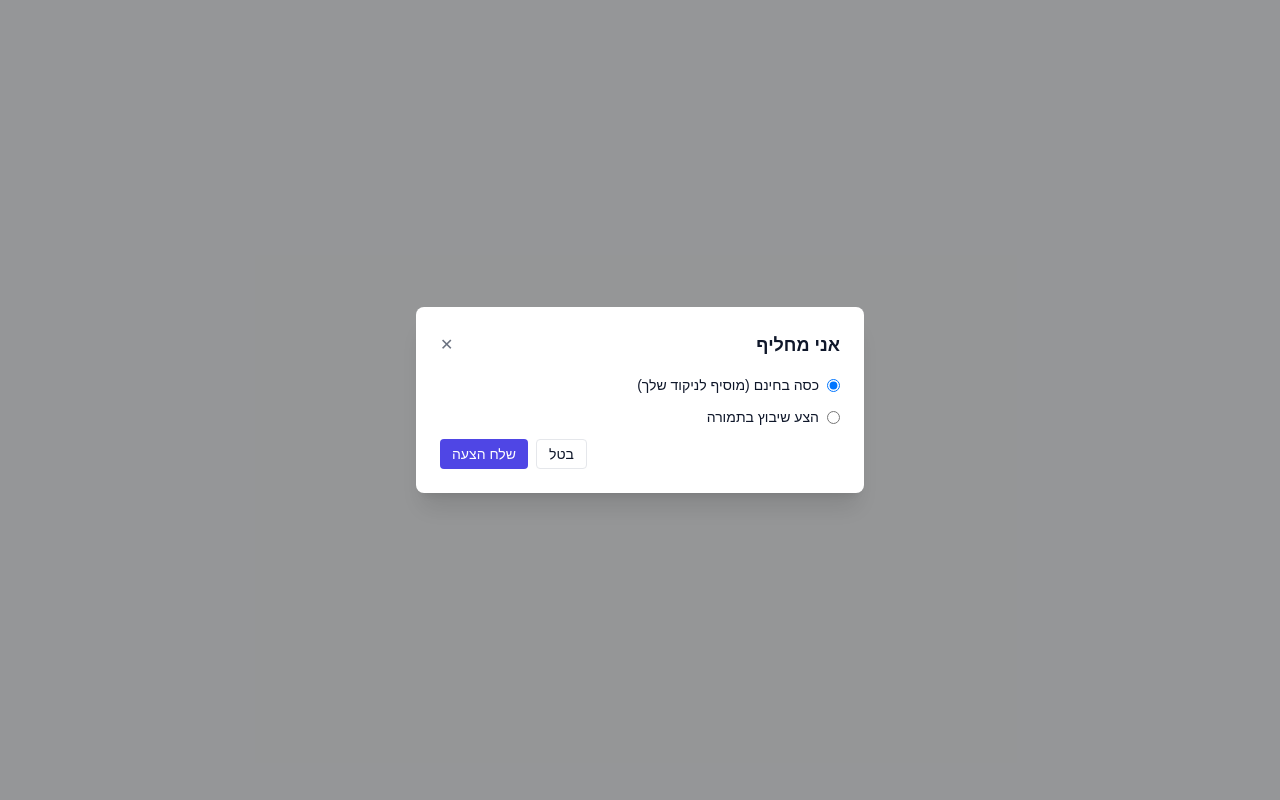
Test: CoverOfferModal › shows a translated message for cover_blocked:overlap
Click the button "שלח הצעה" at (484, 454), box [440, 439, 528, 469]
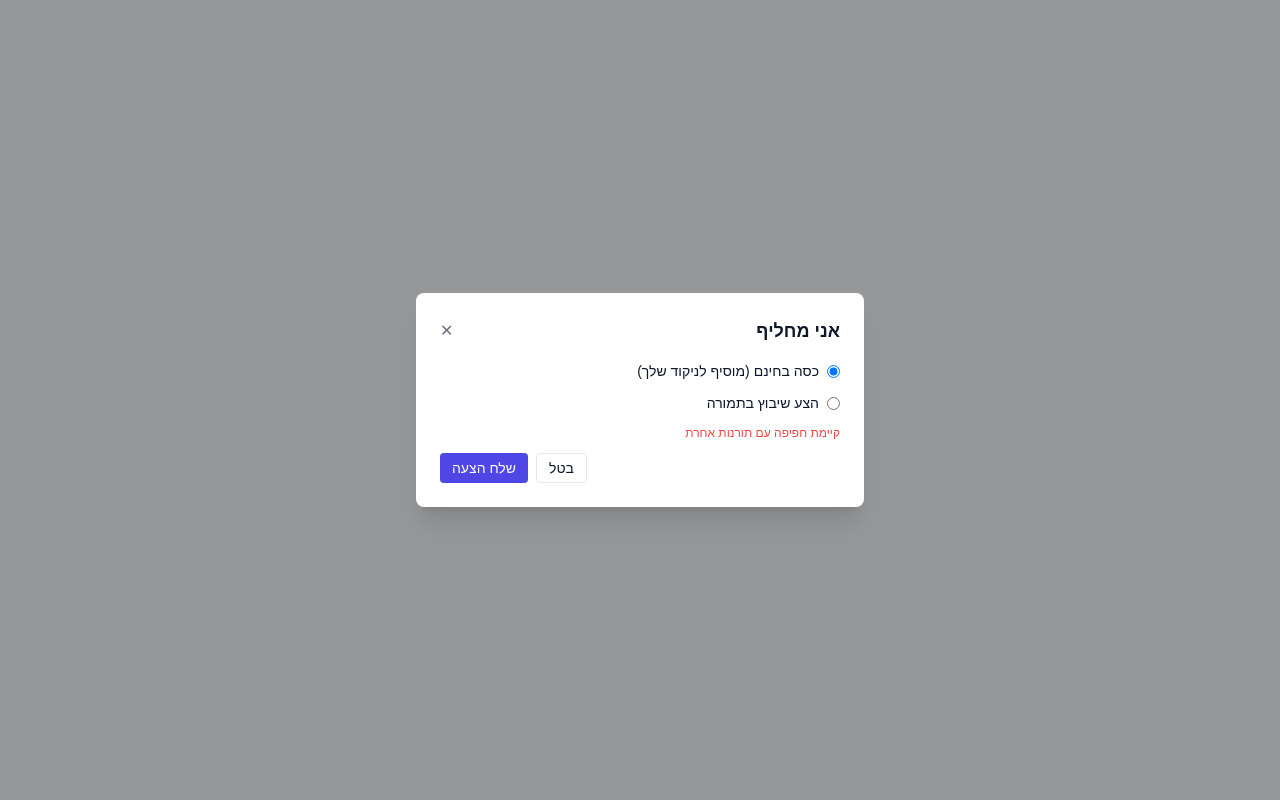
Check: the text "קיימת חפיפה עם תורנות אחרת" is shown, box [685, 426, 840, 440]
